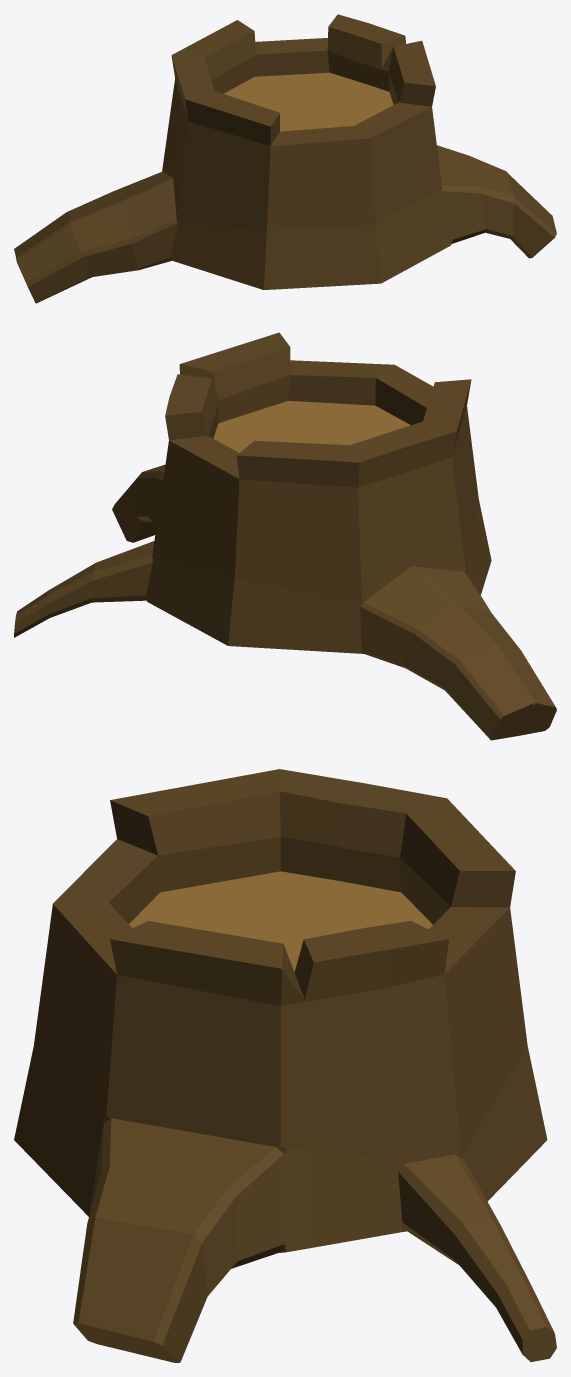
The model's file is tree stump.fbx.
3 renders of one model, top to bottom at view 1: azimuth 30°, elevation 25°; view 2: azimuth 150°, elevation 25°; view 3: azimuth 270°, elevation 25°, orthographic. The views are drawn at different scales.
Parts seen in each view (by area): view 1: Circle; view 2: Circle; view 3: Circle.
Part boxes in pixels (<box>): Circle: <box>14,14,556,303</box>; Circle: <box>14,332,556,740</box>; Circle: <box>14,769,556,1362</box>.
Size of the model in its own units: 337 by 146 by 203.
